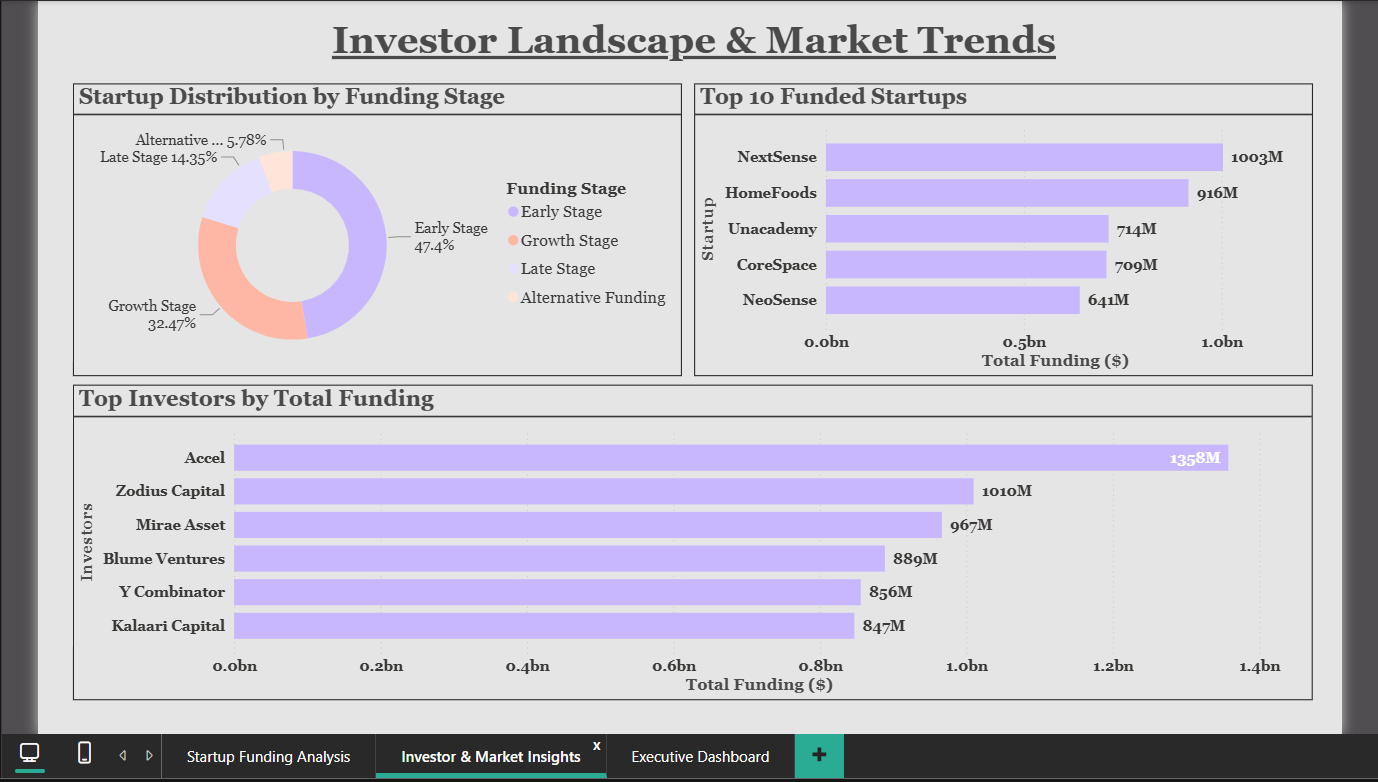

This screenshot's page, from the dashboard's own definition file:
{"tool":"powerbi","page":{"name":"Investor & Market Insights","canvas":[1280,720],"ordinal":1},"visuals":[{"type":"clusteredBarChart","title":"Top 10 Funded Startups","fields":{"Category":["indian_startup_funding(2020-2025).Startup"],"Y":["indian_startup_funding(2020-2025).Total Funding"]},"box":[644.2,81,607.4,287.1],"z":0},{"type":"barChart","title":"Top Investors by Total Funding","fields":{"Category":["indian_startup_funding(2020-2025).Investors"],"Y":["indian_startup_funding(2020-2025).Total Funding ($)"]},"box":[34.4,376.7,1217.2,309.2],"z":1000},{"type":"donutChart","title":"Startup Distribution by Funding Stage","fields":{"Category":["indian_startup_funding(2020-2025).Funding Stage"],"Y":["CountNonNull(indian_startup_funding(2020-2025).Startup)"]},"box":[34.4,81,597.5,287.1],"z":2000},{"type":"textbox","box":[100,12.2,1089,56.1],"z":6000}]}

Visuals, with their boxes on the page's 1280x720 design canvas (x1, y1, x2, y2). These are canvas units, not pixel positions in the 1378x782 screenshot, which may show the page scaled, cropped or inside an application window:
"Top 10 Funded Startups" clusteredBarChart: bbox=(644, 81, 1252, 368)
"Top Investors by Total Funding" barChart: bbox=(34, 377, 1252, 686)
"Startup Distribution by Funding Stage" donutChart: bbox=(34, 81, 632, 368)
textbox: bbox=(100, 12, 1189, 68)
